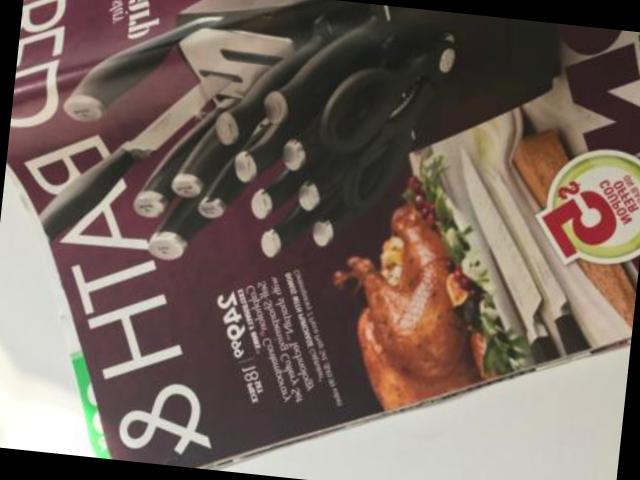cardboard paper: (5, 0, 640, 471)
